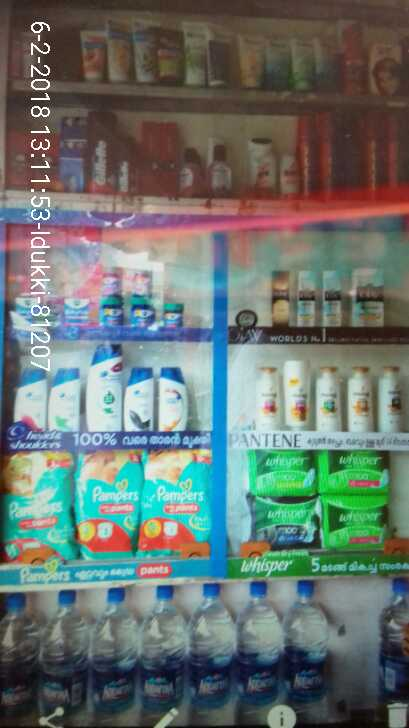vicks: (5, 297, 187, 328)
